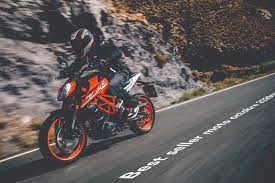moto: (35, 74, 167, 163)
person: (67, 28, 131, 84)
